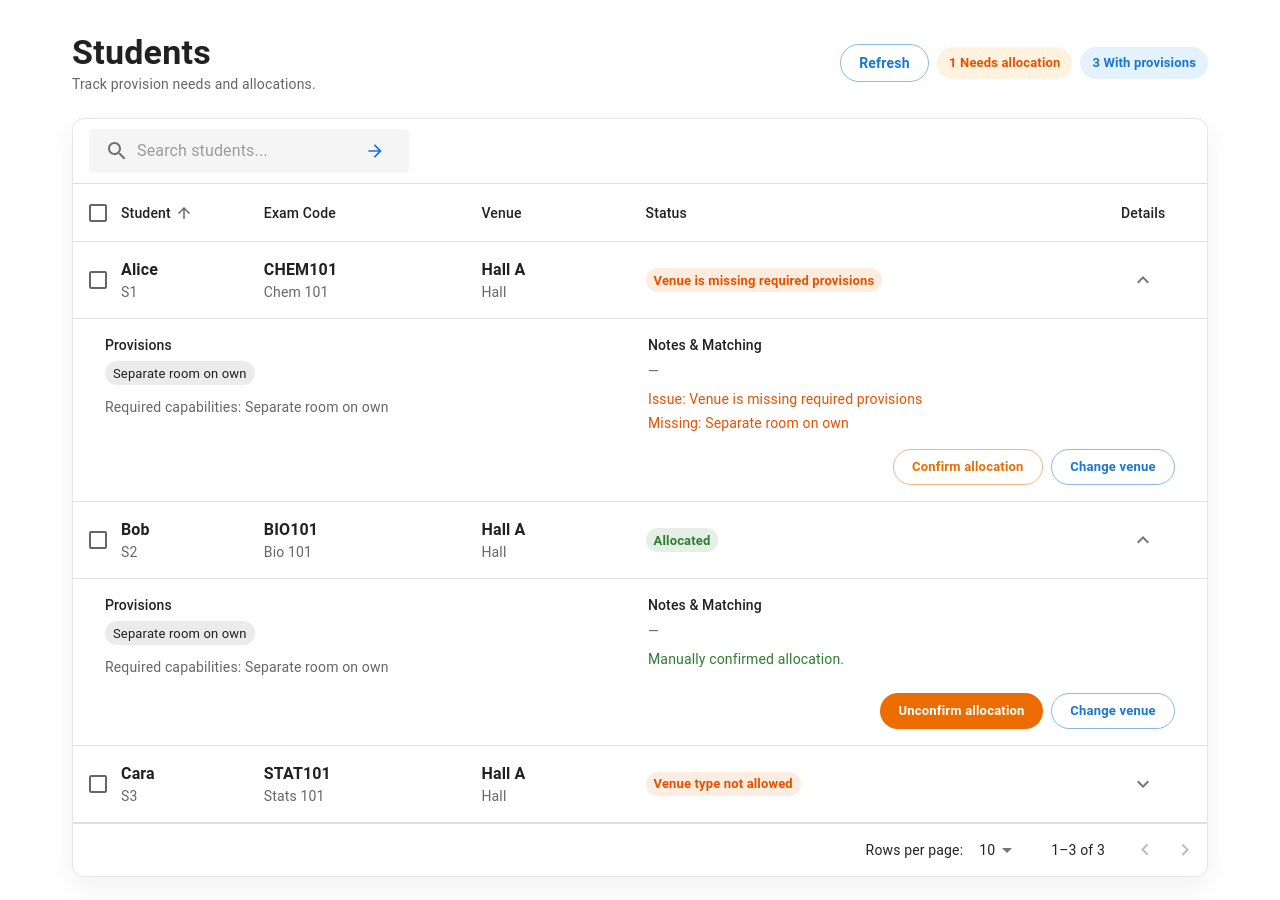
AdminStudents manual allocation › shows unconfirm allocation and submits unconfirm
expect the text "Bob" is shown: met, box top-left (121, 520), bottom-right (150, 539)
Click the button "Unconfirm allocation".
click(962, 711)  # box top-left (880, 693), bottom-right (1043, 729)
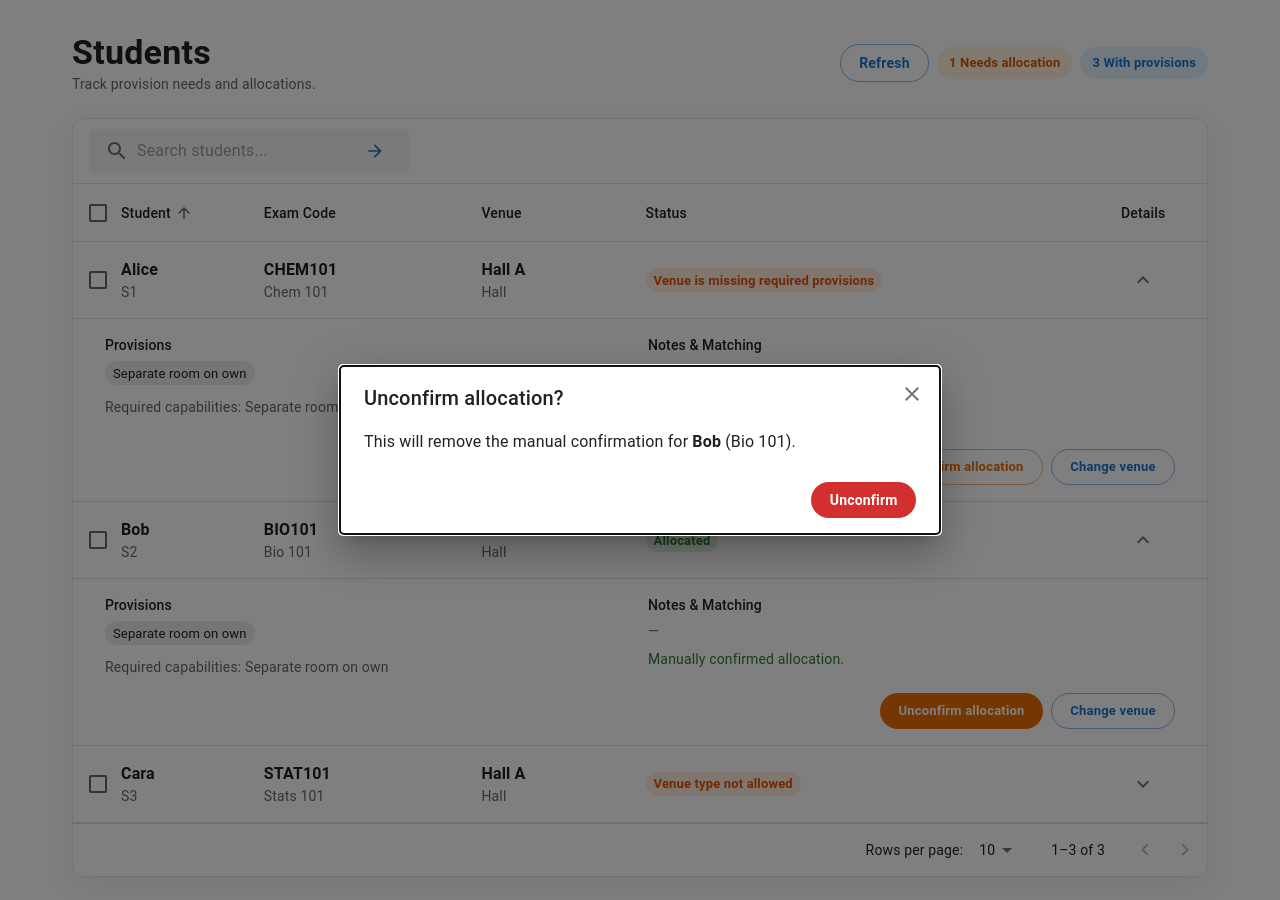
expect the heading "Unconfirm allocation?" is shown: met, box top-left (340, 366), bottom-right (940, 430)
Click the button "Unconfirm".
click(864, 500)  # box top-left (811, 482), bottom-right (916, 518)
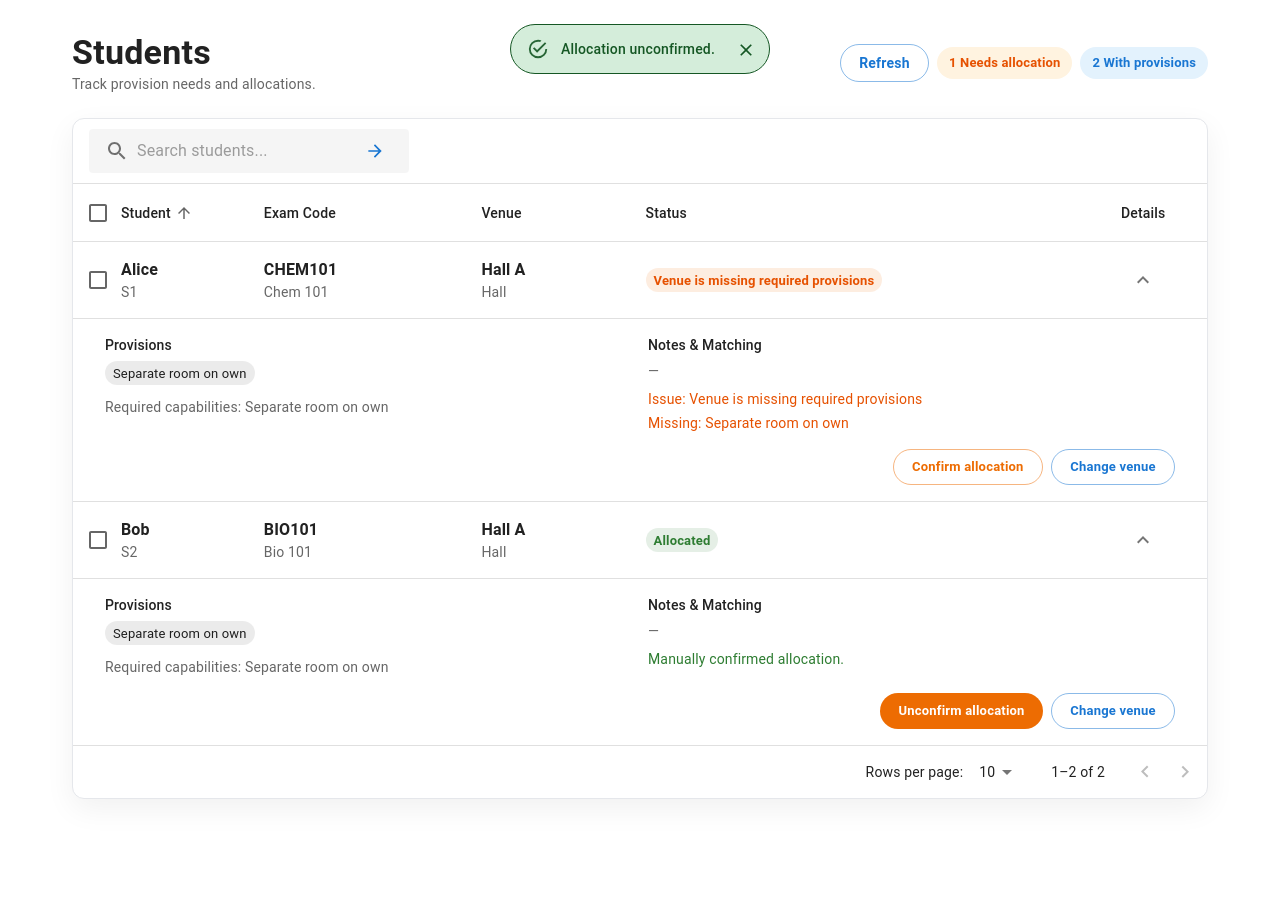
expect the text "Allocation unconfirmed." is shown: met, box top-left (561, 41), bottom-right (715, 57)
